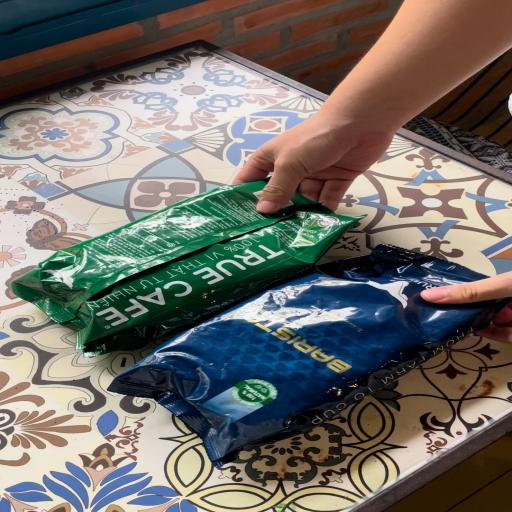cafe_hat: (109, 244, 512, 465)
cafe_xay: (12, 182, 360, 355), (12, 182, 297, 321)
